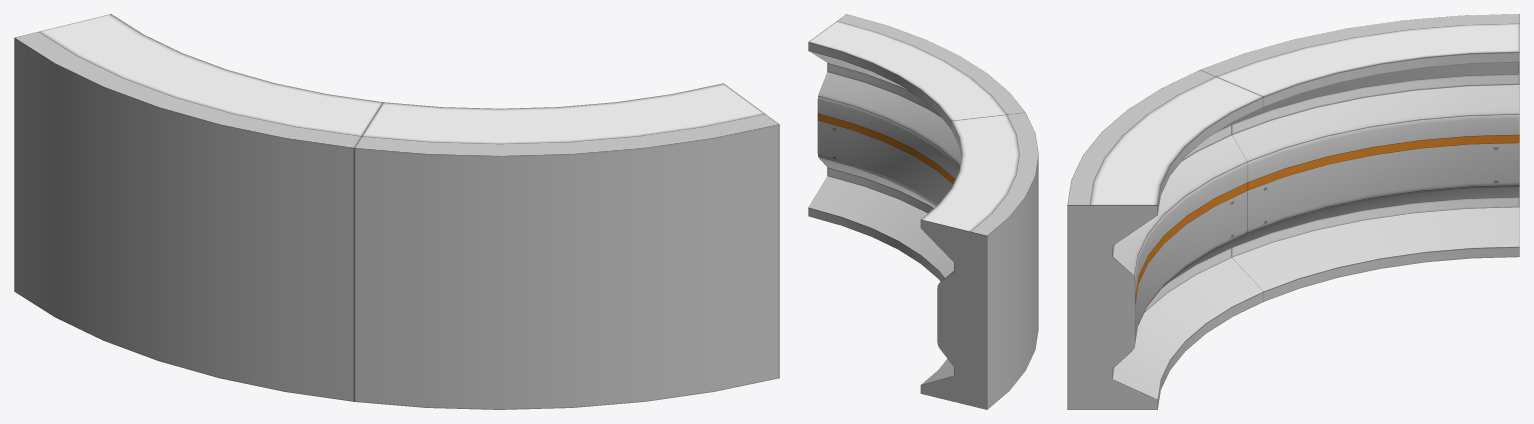
The model's file is Wall_Angle_01.FBX.
3 renders of one model, left to right at view 1: azimuth 30°, elevation 25°; view 2: azimuth 150°, elevation 25°; view 3: azimuth 270°, elevation 25°, orthographic. The views are drawn at different scales.
Parts seen in each view (by area): view 1: Wall_Angle_01; view 2: Wall_Angle_01; view 3: Wall_Angle_01.
Part boxes in pixels (x1,y1,x2,y2): Wall_Angle_01: (14,14,779,409); Wall_Angle_01: (808,14,1038,409); Wall_Angle_01: (1067,14,1519,409).
Size of the model in its own units: 10 by 5 by 10.
